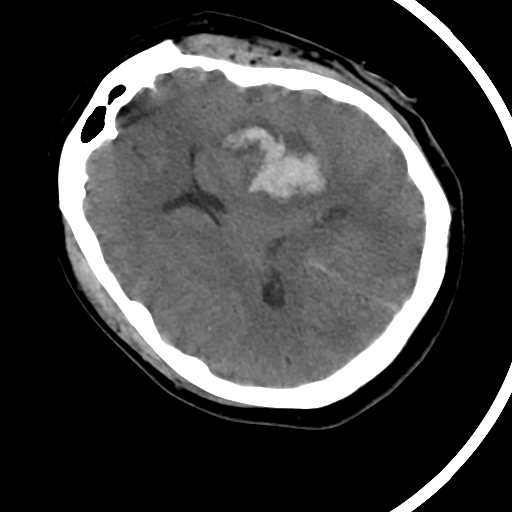a: (212, 107, 343, 225)
